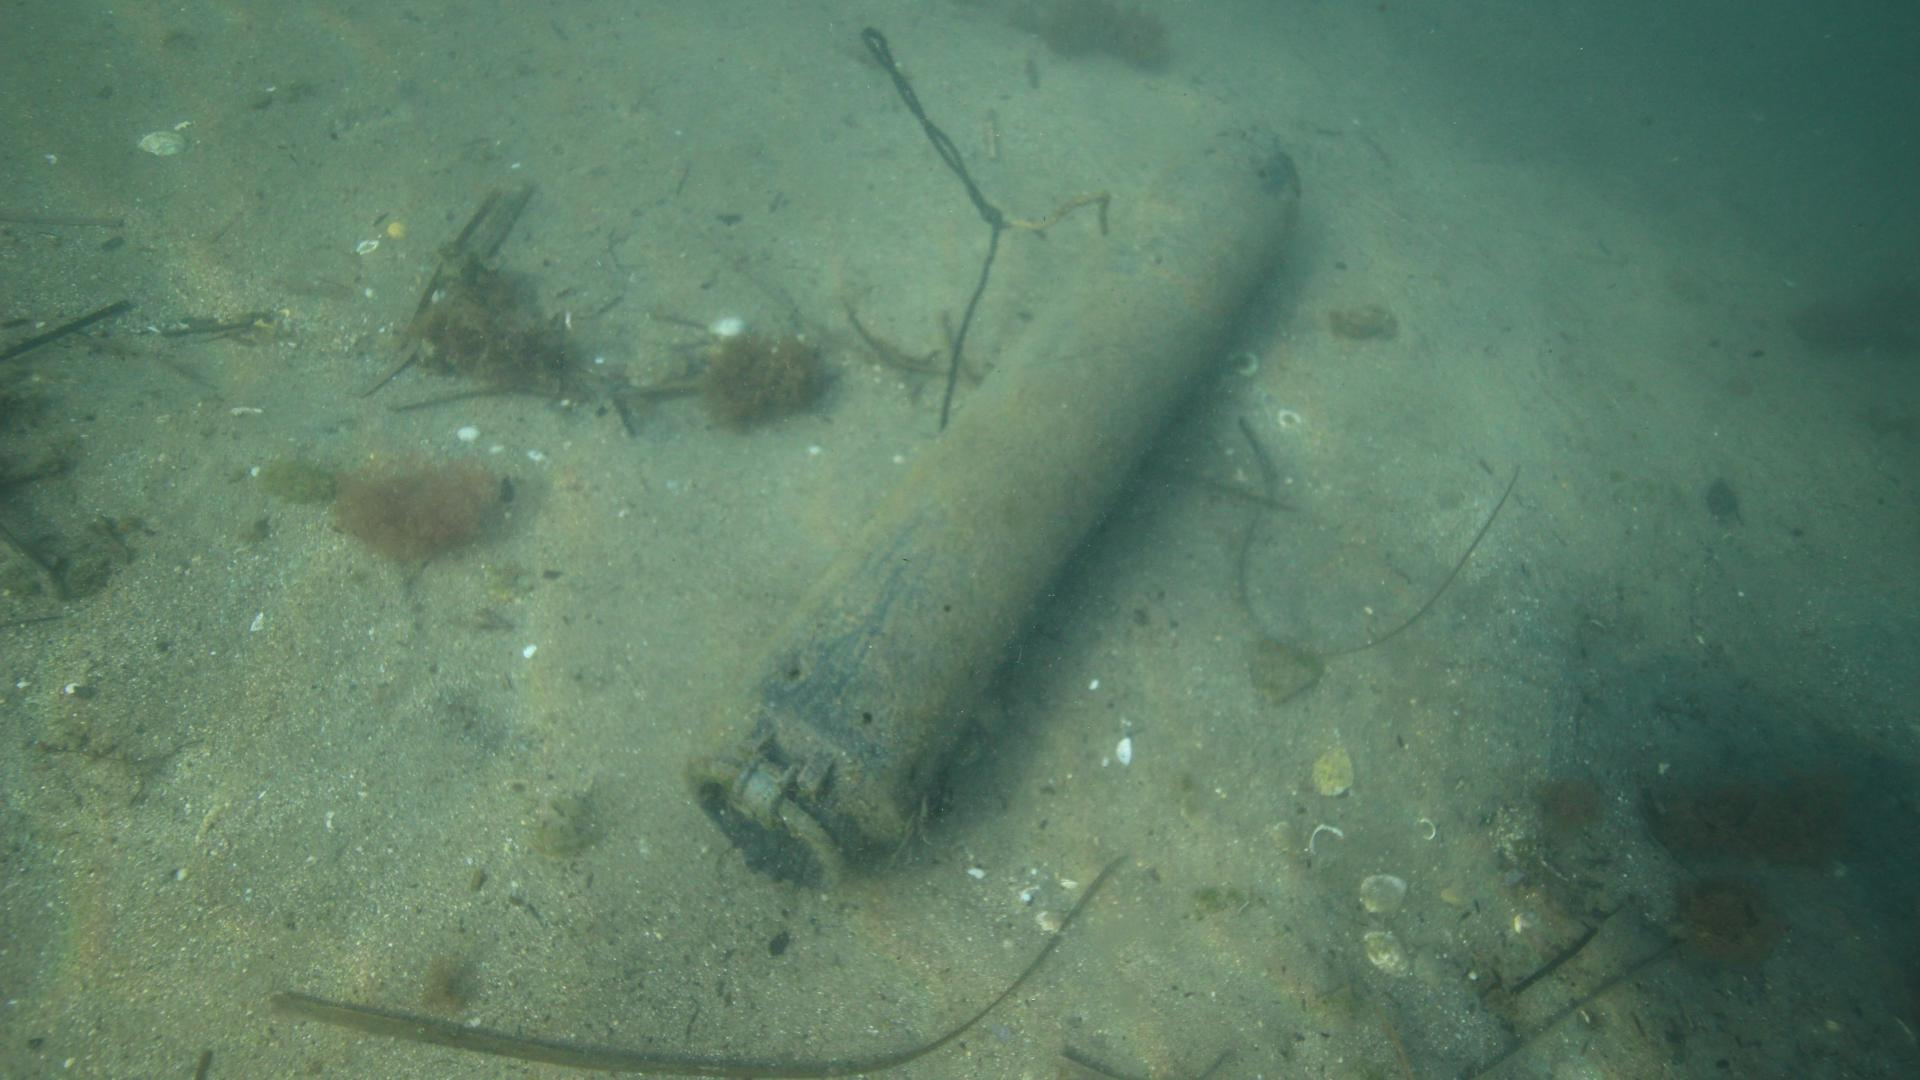eel fish trap: (680, 128, 1298, 895)
rope: (858, 25, 1114, 426)
